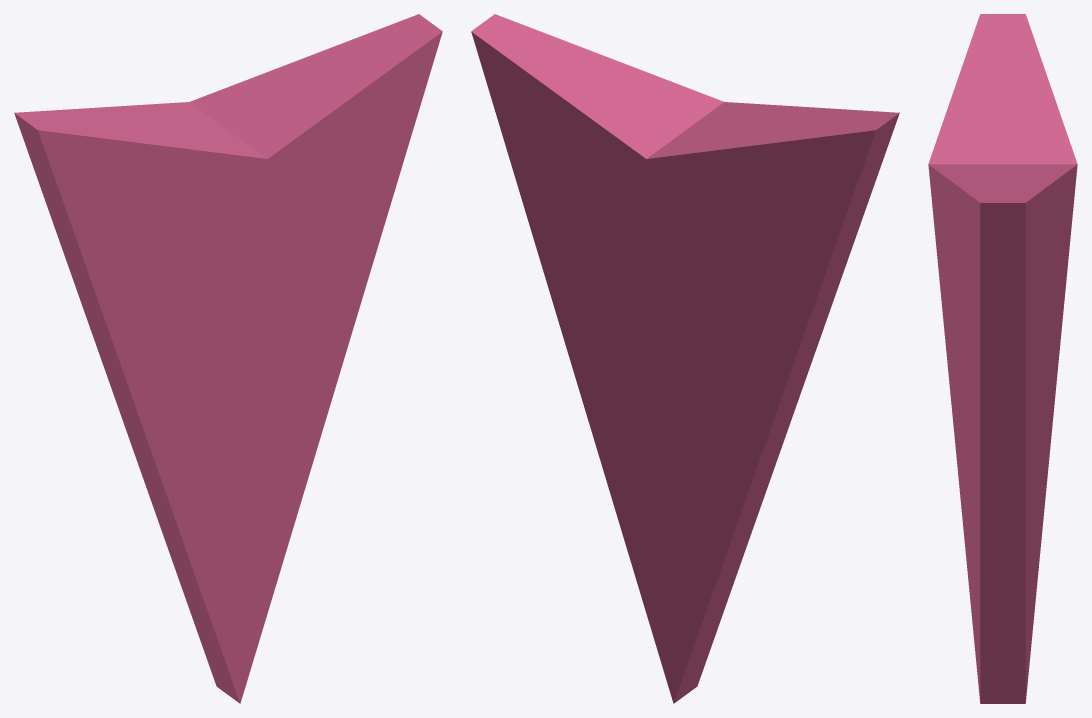
Rendered from selector-transformed.glb.
3 views of the same model, side by side, from view 1: azimuth 30°, elevation 25°; view 2: azimuth 150°, elevation 25°; view 3: azimuth 270°, elevation 25° (orthographic). The views are drawn at different scales.
Parts seen in each view (by area): view 1: Plane; view 2: Plane; view 3: Plane.
Boxes of the visible parts, left/top/right/bottom form: Plane: left=14, top=14, right=442, bottom=703; Plane: left=471, top=14, right=899, bottom=703; Plane: left=928, top=14, right=1077, bottom=703.
Bounding box in the file's own units: 1.28 × 1.88 × 0.4266.
